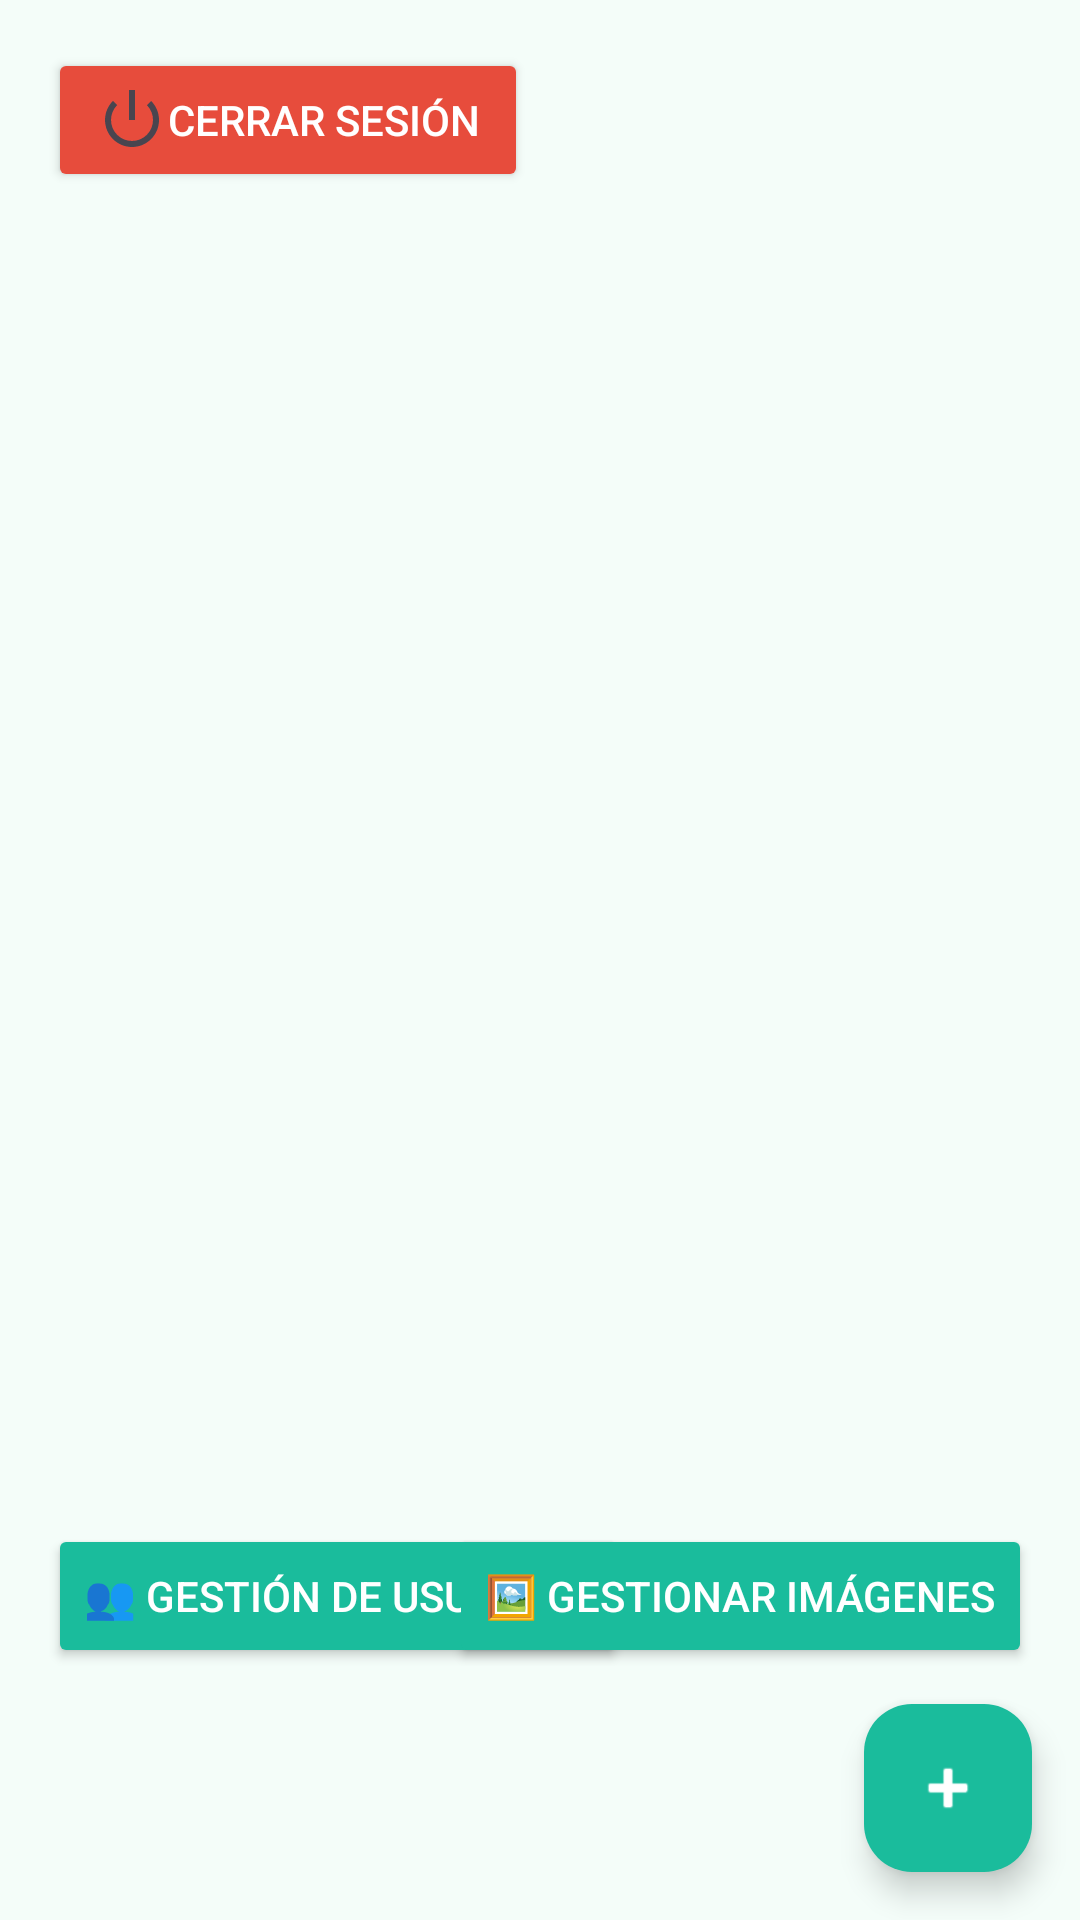

Icons on this 1080px x 1920px Android screen, each with its box as (x1=x1, y1=y1, x2=x2, y2=y2):
Agregar nueva losa: (x1=864, y1=1704, x2=1032, y2=1872)
